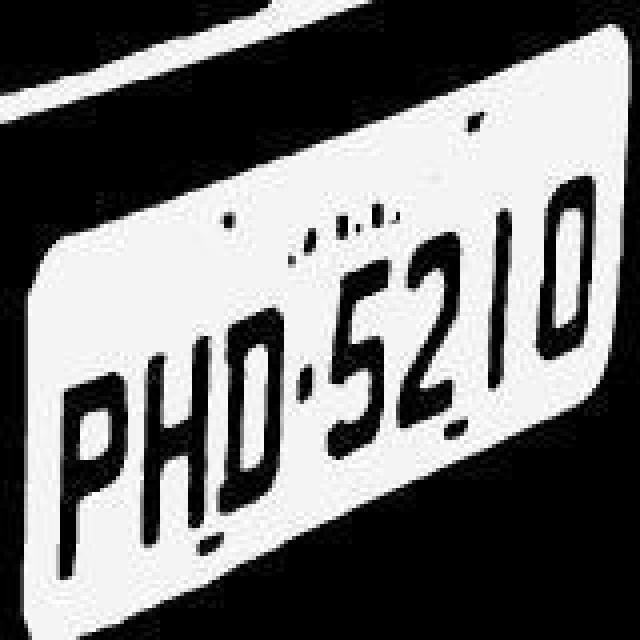1: (476, 166, 516, 410)
2: (396, 222, 468, 426)
5: (326, 254, 394, 458)
D: (214, 288, 290, 528)
H: (138, 314, 214, 558)
O: (534, 160, 602, 376)
P: (54, 344, 130, 584)
